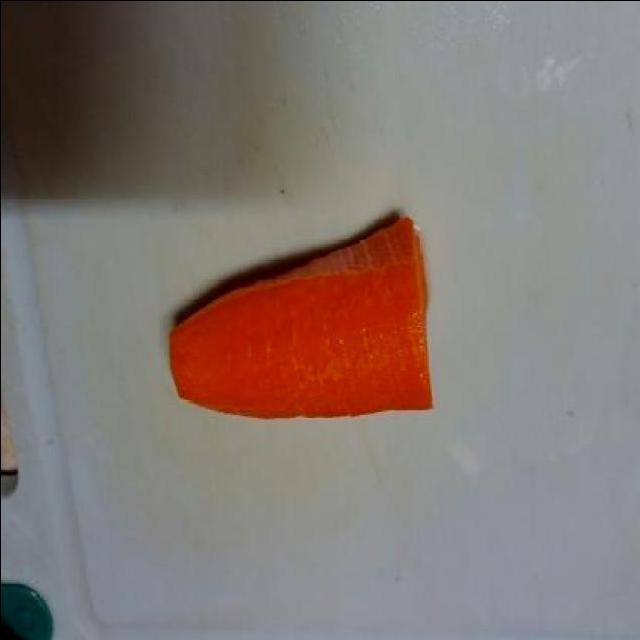carrot: (167, 210, 435, 428)
